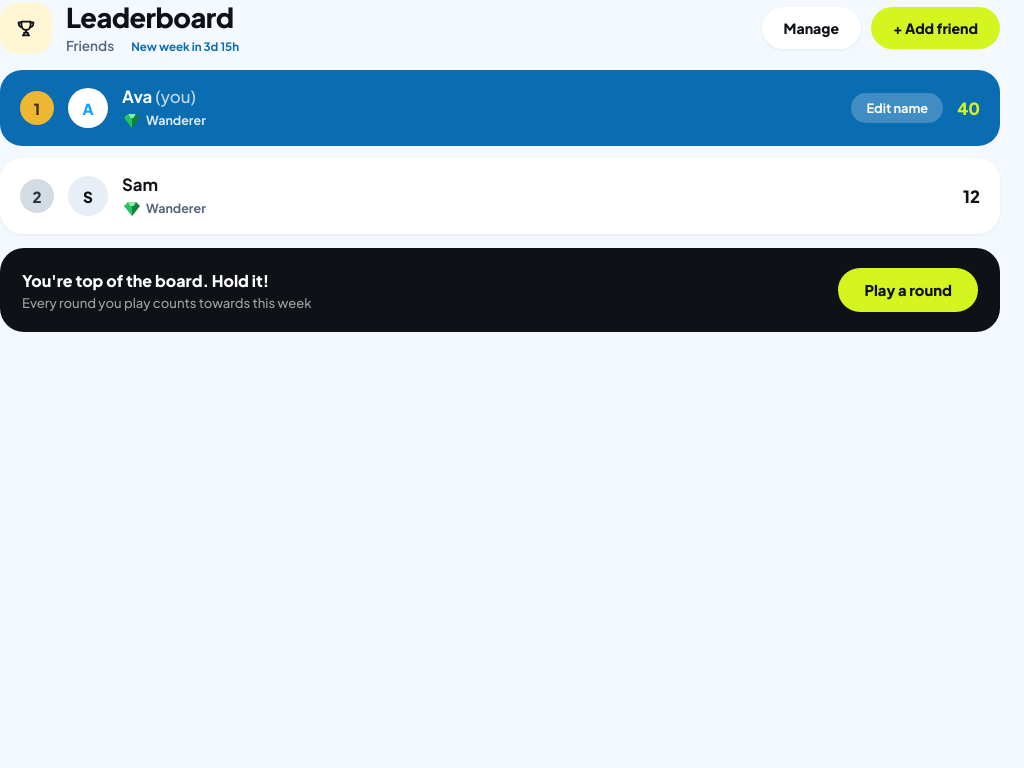
Test case: LeaderboardScreen › says out loud that the code was copied
Click the button with class "board-addbtn".
click(936, 28)  # box [871, 7, 1000, 49]
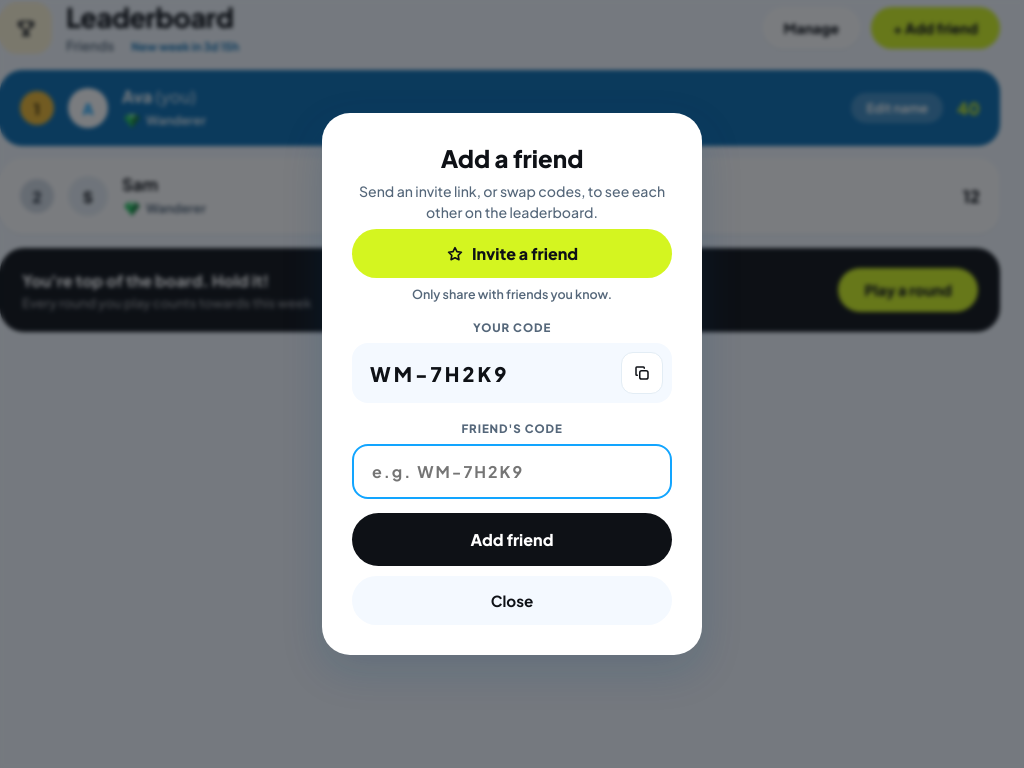
Expected: the button with class "board-copybtn" is empty
Click the button with class "board-copybtn".
click(642, 373)  # box [621, 352, 663, 394]
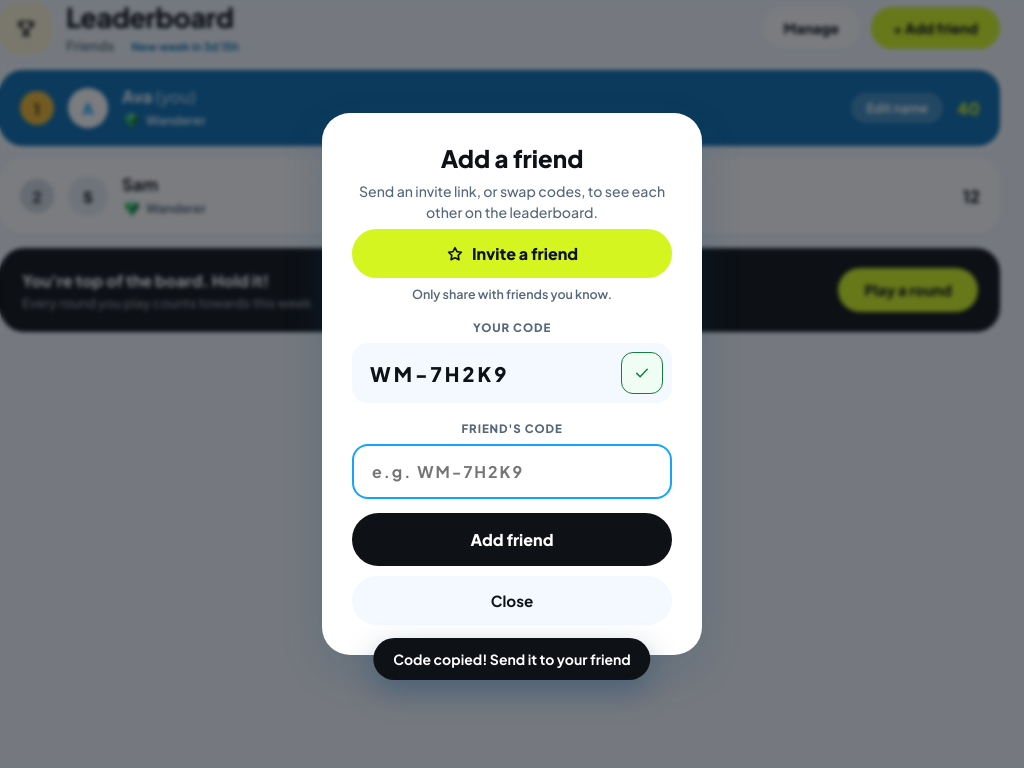
Expected: the text with class "set-toast" shows "Code copied", [393, 650, 631, 668]
